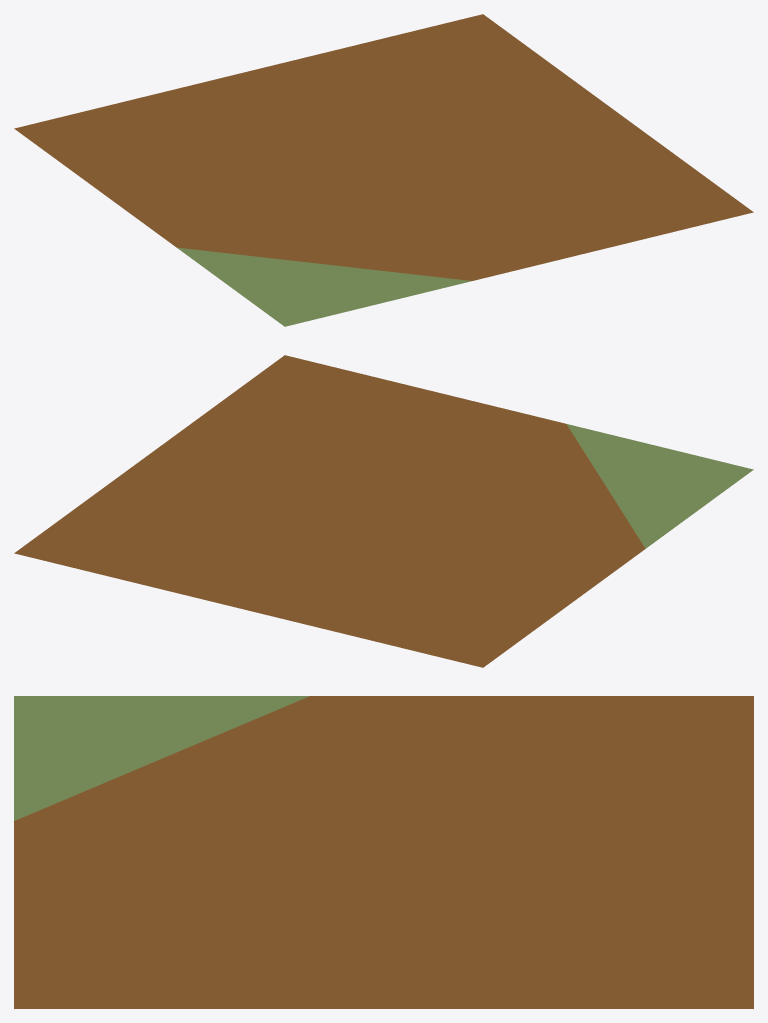
Rendered from SA_Env_Dirt_Corner_01.gltf.
3 views of the same model, one above another, from view 1: azimuth 30°, elevation 25°; view 2: azimuth 150°, elevation 25°; view 3: azimuth 270°, elevation 25° (orthographic). The views are drawn at different scales.
Visible parts, largest first — view 1: SA_Env_Dirt_Corner_01; view 2: SA_Env_Dirt_Corner_01; view 3: SA_Env_Dirt_Corner_01.
Part boxes in pixels (bbox=[...]): SA_Env_Dirt_Corner_01: bbox=[14, 14, 753, 326]; SA_Env_Dirt_Corner_01: bbox=[14, 355, 753, 667]; SA_Env_Dirt_Corner_01: bbox=[14, 696, 753, 1008].
Bounding box in the file's own units: 15 × 2.53e-06 × 15.
Materials: 1 (1 with a texture image).
